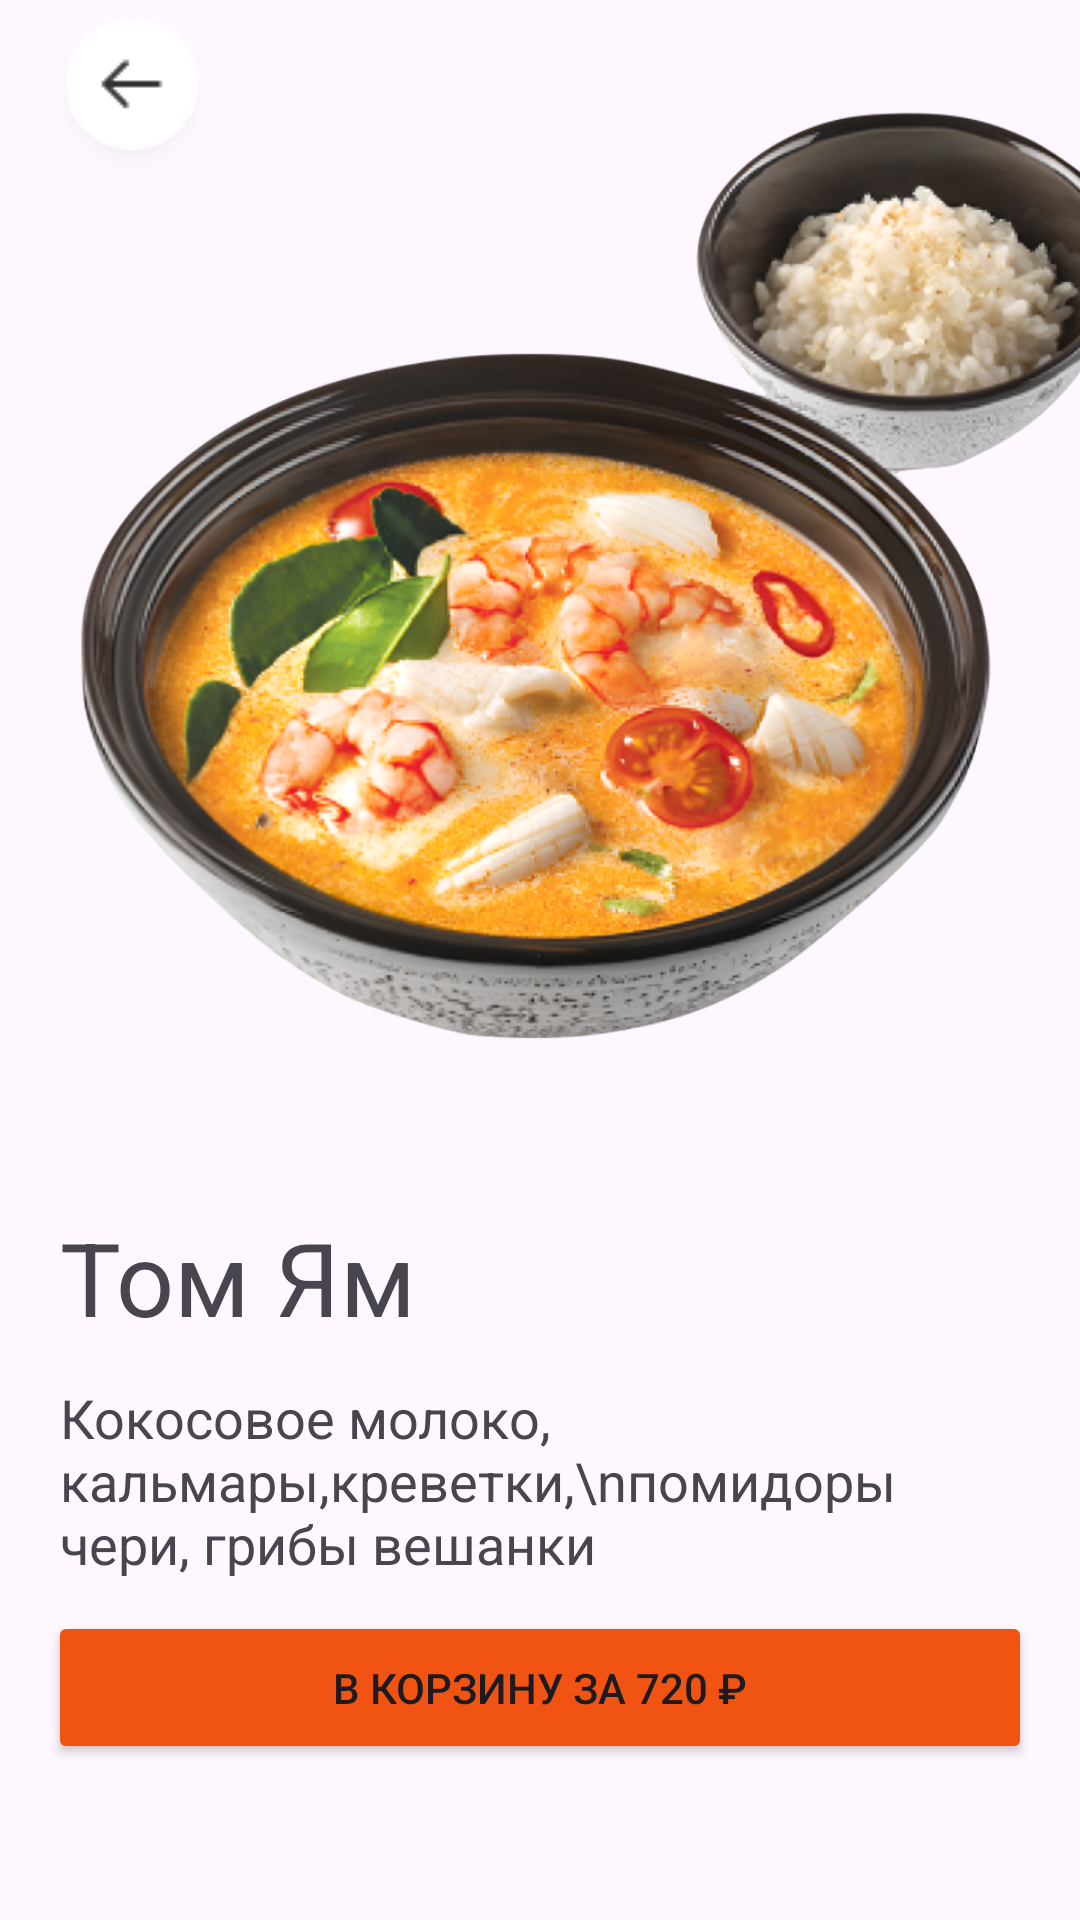

Screen size 1080 × 1920. Icon name, then its center in pixels as [x,y]:
back: [132,84]
